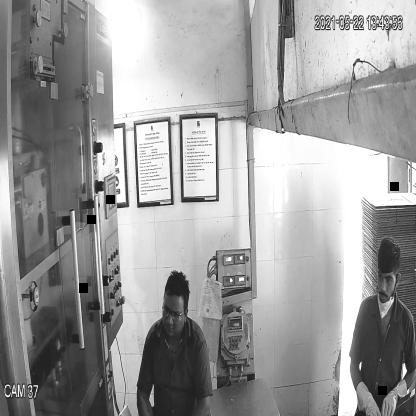goggles: (161, 301, 187, 325)
no_goggles: (374, 268, 398, 288)
